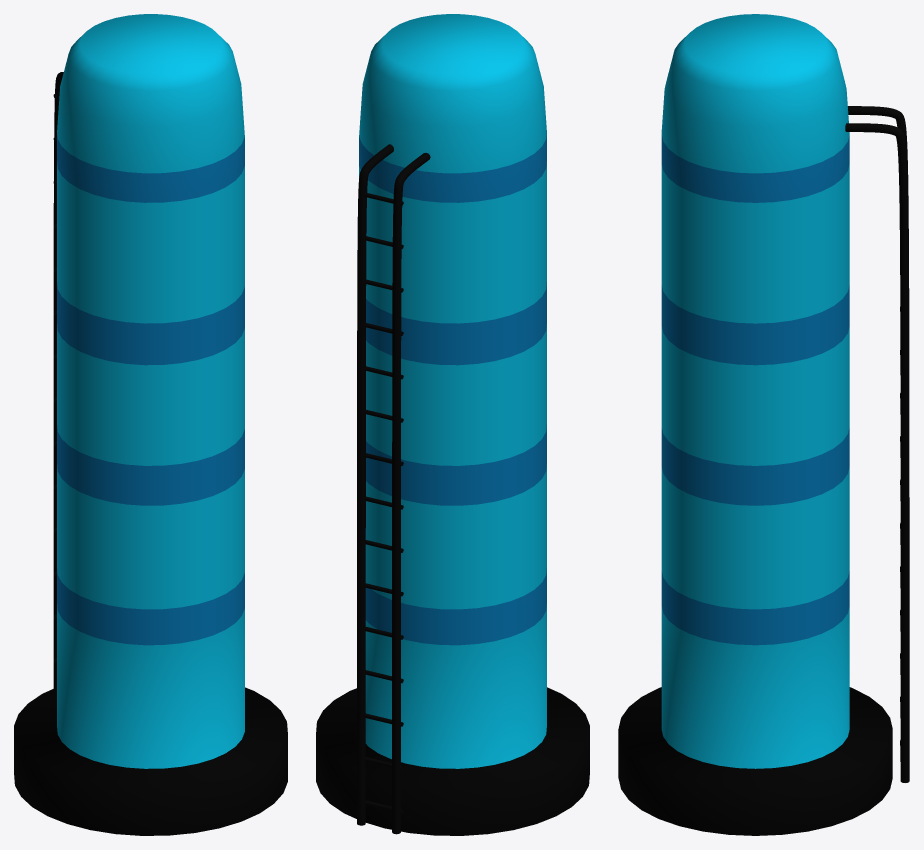
The model's file is water tank.glb.
The picture shows the model from 3 angles, left to right: view 1: azimuth 30°, elevation 25°; view 2: azimuth 150°, elevation 25°; view 3: azimuth 270°, elevation 25°; orthographic projection.
Parts seen in each view (by area): view 1: Cylinder, NurbsPath.001; view 2: Cylinder, NurbsPath.001, NurbsPath; view 3: Cylinder, NurbsPath, NurbsPath.001.
Part boxes in pixels (x1=…): Cylinder: x1=14, y1=14, x2=287, y2=835; NurbsPath.001: x1=53, y1=72, x2=63, y2=688; Cylinder: x1=316, y1=14, x2=589, y2=835; NurbsPath.001: x1=392, y1=153, x2=430, y2=834; NurbsPath: x1=357, y1=144, x2=393, y2=825; Cylinder: x1=618, y1=14, x2=892, y2=835; NurbsPath: x1=845, y1=123, x2=909, y2=782; NurbsPath.001: x1=848, y1=106, x2=909, y2=513.
Bounding box in the file's own units: 0.4824 × 1.42 × 0.5119.
